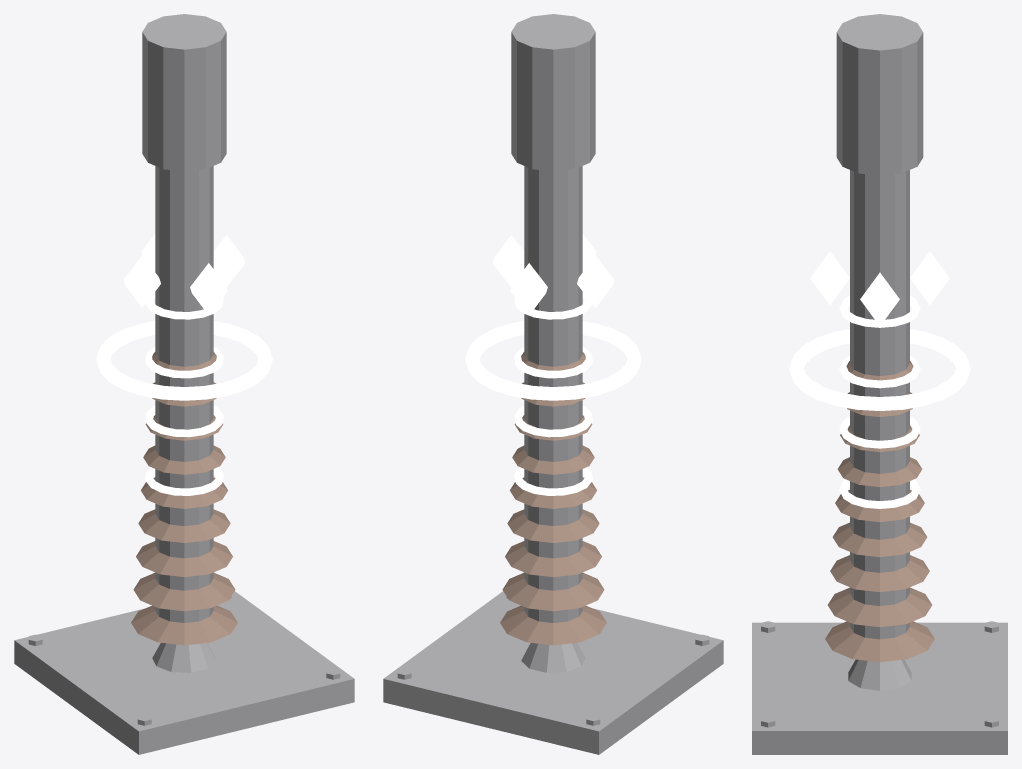
Rendered from drill_bit_divine.glb.
The picture shows the model from 3 angles, left to right: view 1: azimuth 30°, elevation 25°; view 2: azimuth 150°, elevation 25°; view 3: azimuth 270°, elevation 25°; orthographic projection. The views are drawn at different scales.
Visible parts, largest first — view 1: drill_bit; view 2: drill_bit; view 3: drill_bit.
Boxes of the visible parts, x1,y1,x2,y2 form: drill_bit: (14,14,354,754); drill_bit: (383,14,723,754); drill_bit: (752,14,1007,754).
Size of the model in its own units: 1.54 by 4.43 by 1.54.
